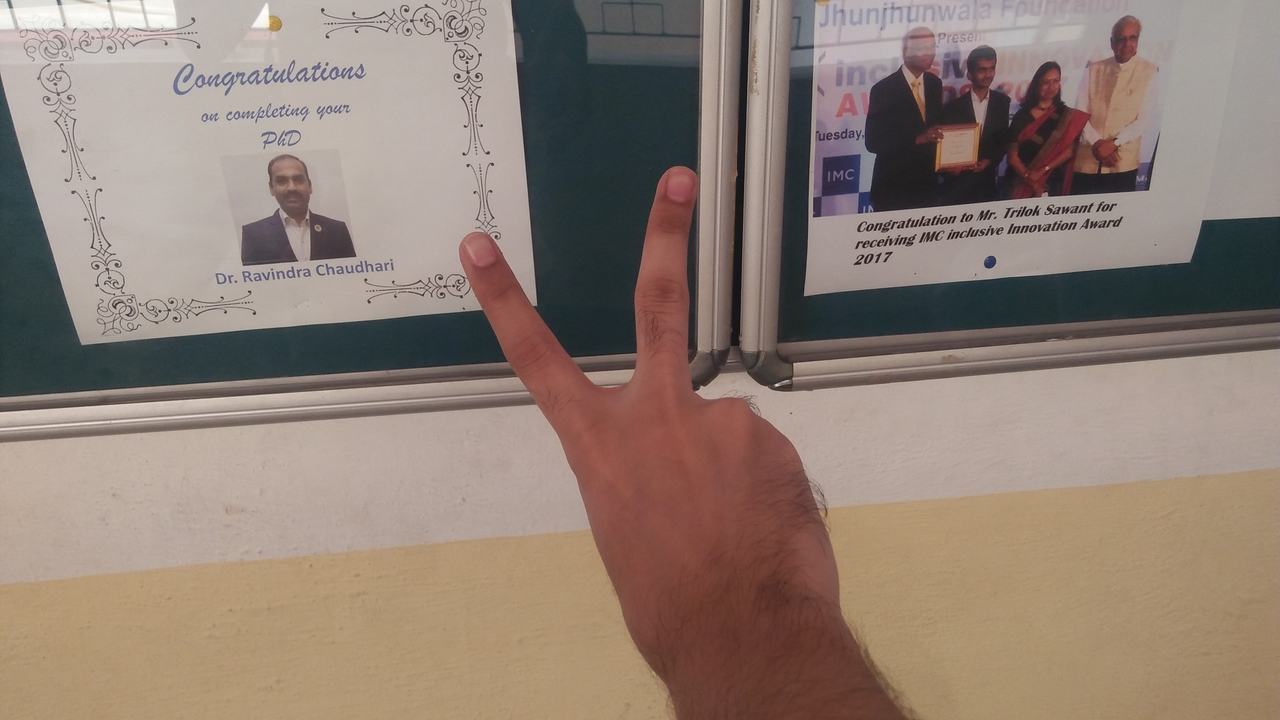fingertip: (644, 154, 702, 212), (448, 224, 506, 278)
